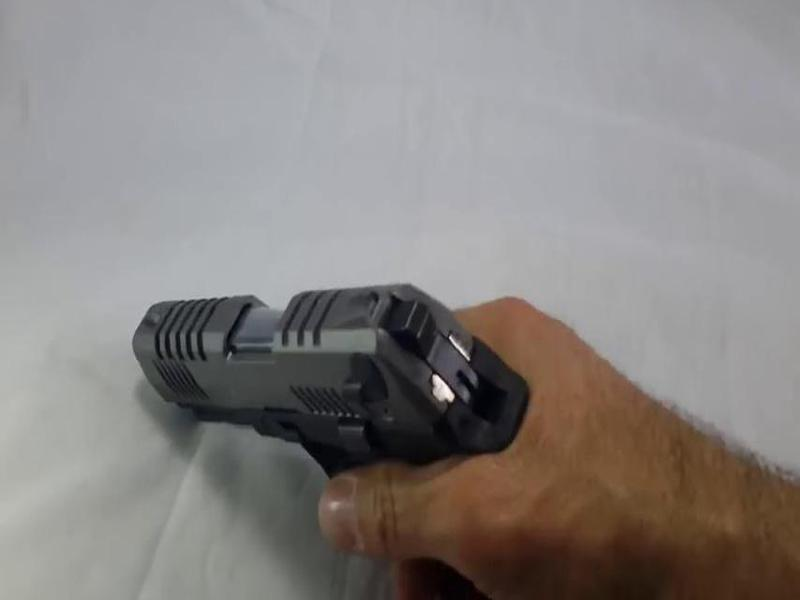Pistola: (112, 256, 522, 556)
